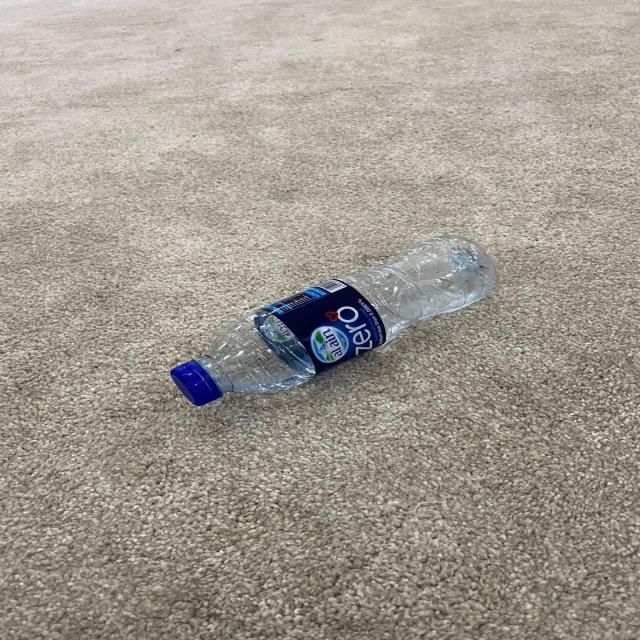bottle: (161, 235, 510, 430)
